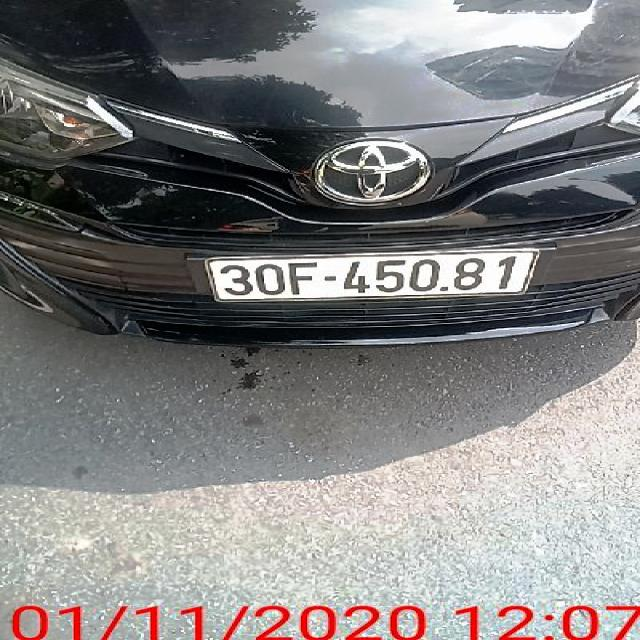license_plate: (211, 249, 545, 303)
